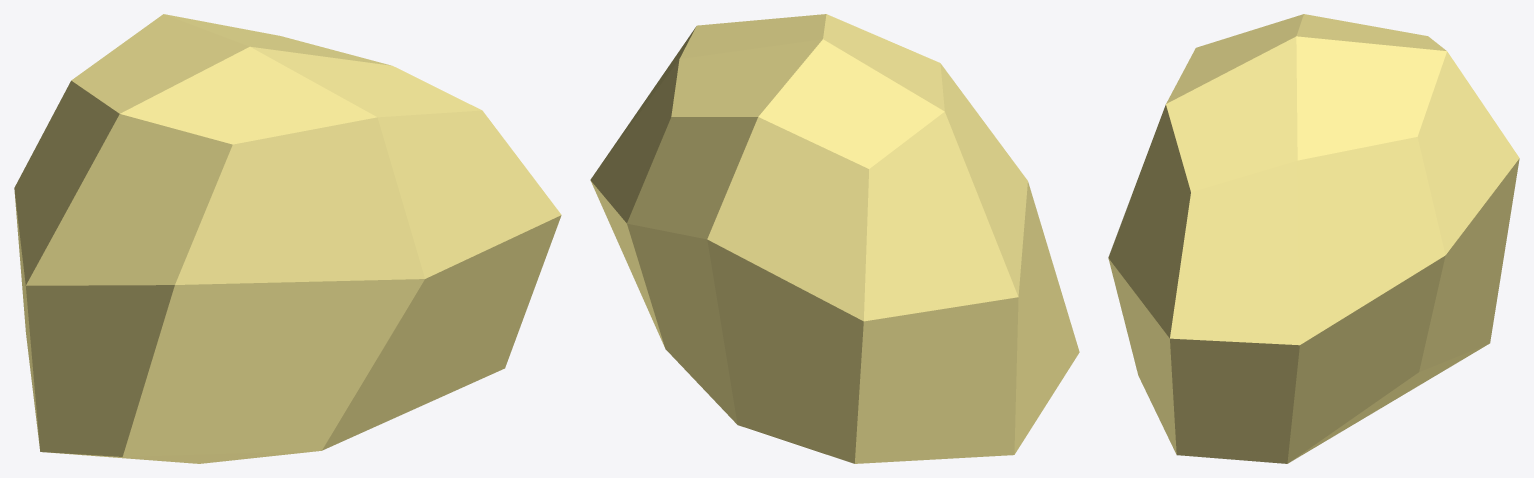
File: Rock03.fbx
3 views of the same model, side by side, from view 1: azimuth 30°, elevation 25°; view 2: azimuth 150°, elevation 25°; view 3: azimuth 270°, elevation 25° (orthographic).
Parts seen in each view (by area): view 1: Cube.001; view 2: Cube.001; view 3: Cube.001.
Boxes of the visible parts, box(x1,y1,x2,y2) form: Cube.001: box(14, 14, 561, 463); Cube.001: box(590, 14, 1079, 463); Cube.001: box(1108, 14, 1519, 463).
Bounding box in the file's own units: 793 × 675 × 619.
